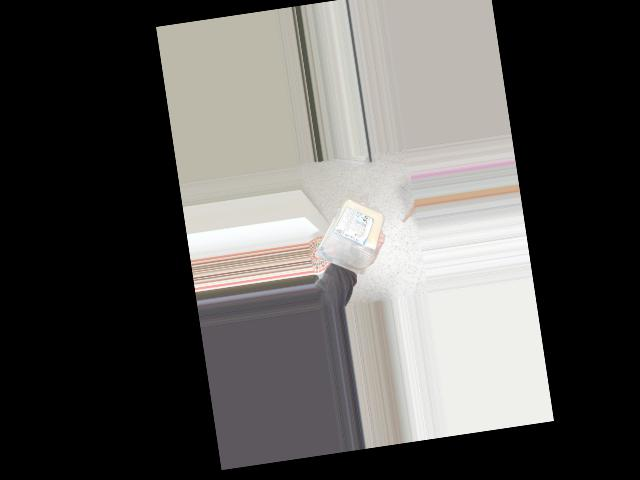cheese: (314, 192, 381, 270)
